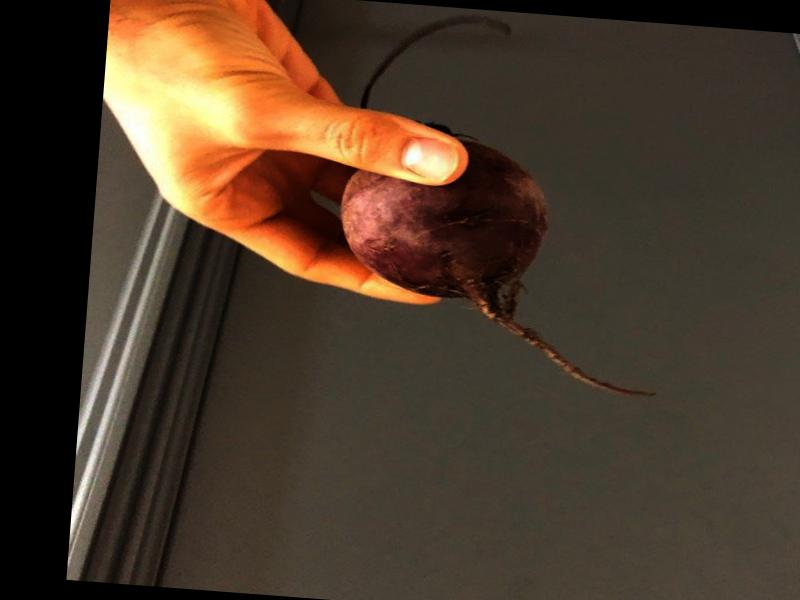Beet: (329, 7, 687, 396)
